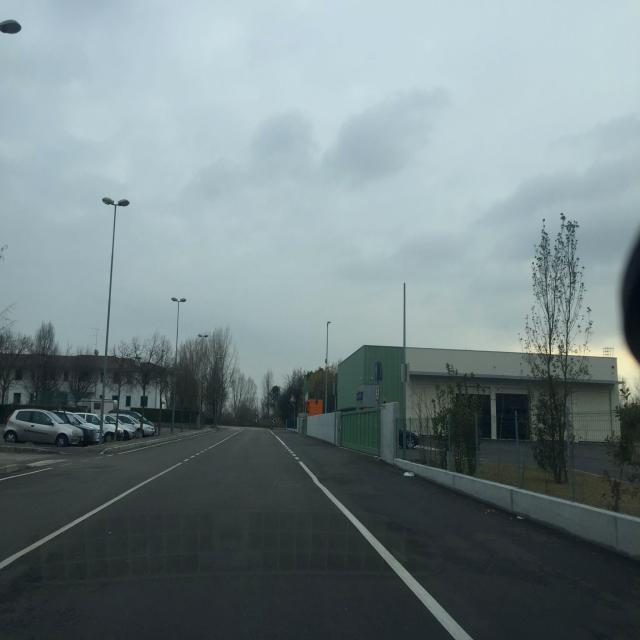car: (3, 407, 85, 448), (52, 410, 100, 446), (76, 412, 124, 442), (108, 413, 141, 437), (126, 412, 157, 437)
